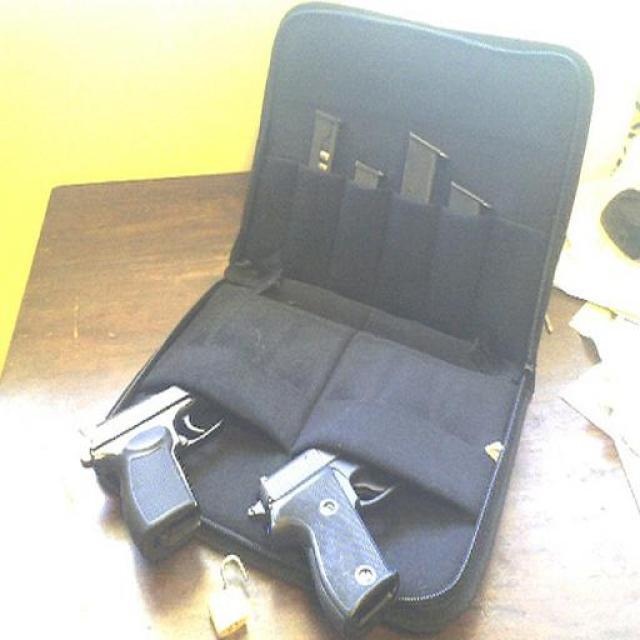pistol: (245, 419, 410, 623), (83, 357, 229, 567)
